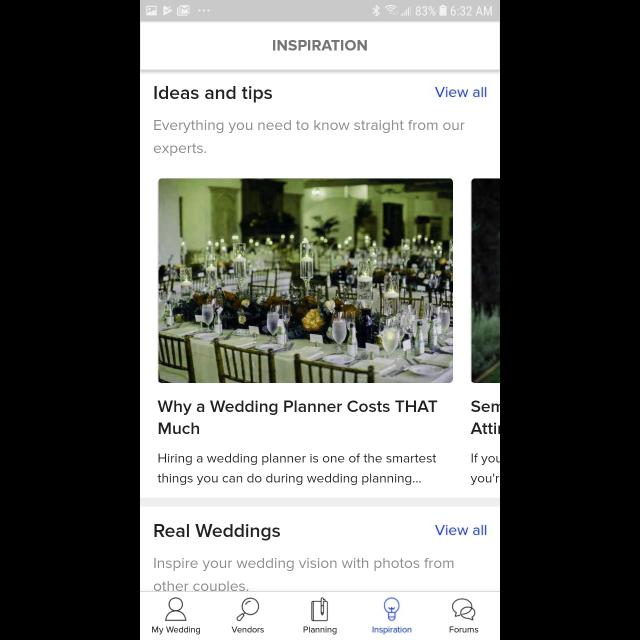icon: (237, 597, 260, 621), (165, 597, 187, 621), (452, 598, 476, 620), (312, 597, 328, 621)
image: (158, 178, 454, 384), (472, 178, 501, 384), (384, 597, 400, 621)
text: (154, 120, 466, 156), (154, 558, 454, 590), (158, 401, 438, 435), (158, 454, 436, 486), (155, 524, 281, 540), (155, 86, 273, 102), (273, 40, 367, 51), (470, 401, 500, 435), (470, 453, 500, 485), (434, 86, 486, 98), (436, 524, 486, 536), (152, 626, 200, 634), (372, 626, 412, 634), (304, 626, 336, 634), (232, 626, 264, 634), (449, 626, 479, 634)
uppertaskbar: (140, 1, 500, 22)
